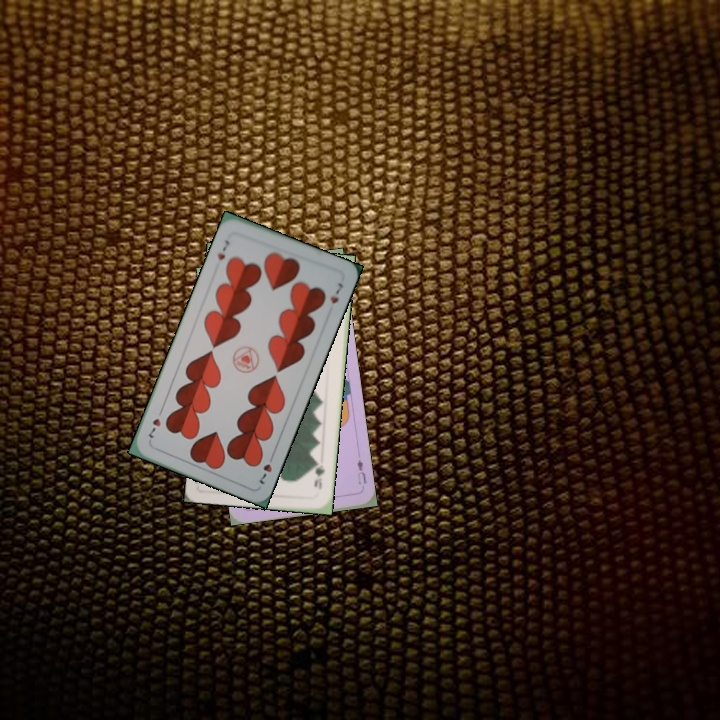EU: (353, 455, 369, 487)
G9: (310, 456, 327, 492)
H7: (255, 449, 277, 487), (213, 236, 232, 263)
